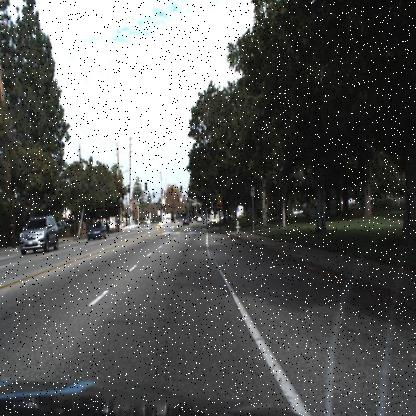car: (16, 211, 60, 253), (85, 221, 107, 242), (181, 214, 192, 230), (192, 211, 202, 226)
trafficLight-Green: (179, 183, 184, 194)
